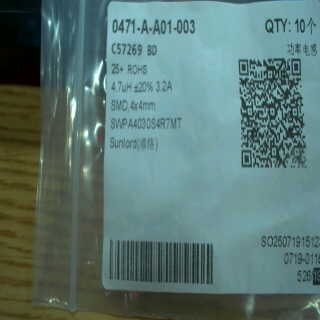4.7uH: (106, 78, 133, 95)
